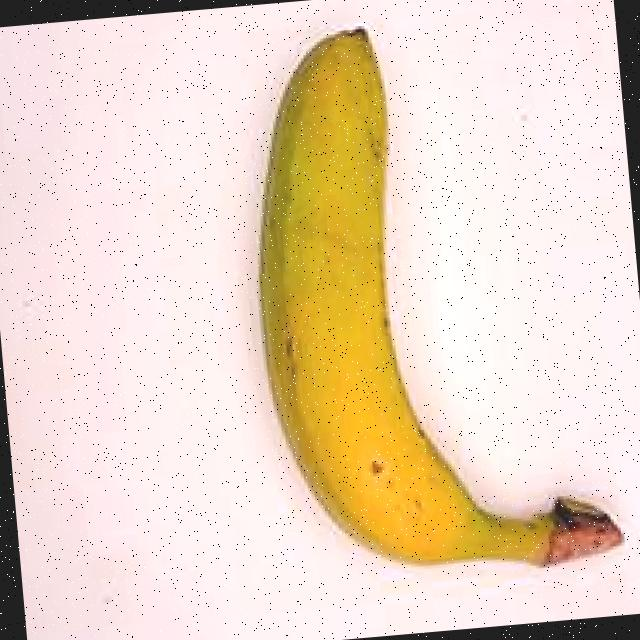Unripe: (183, 0, 629, 627)
